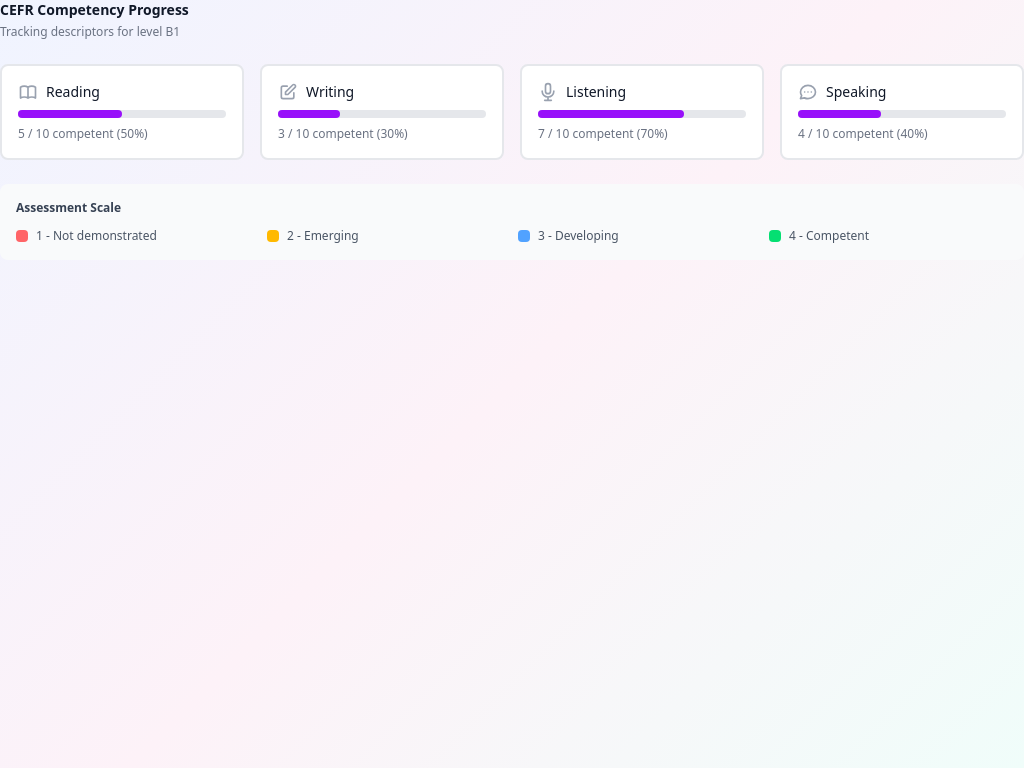
Scenario: CompetencyProgressTab › Skill Categories › toggles category selection on second click
Click the button "Reading 5 / 10 competent (50%)": coordinates (122, 112) [0,64,244,160]
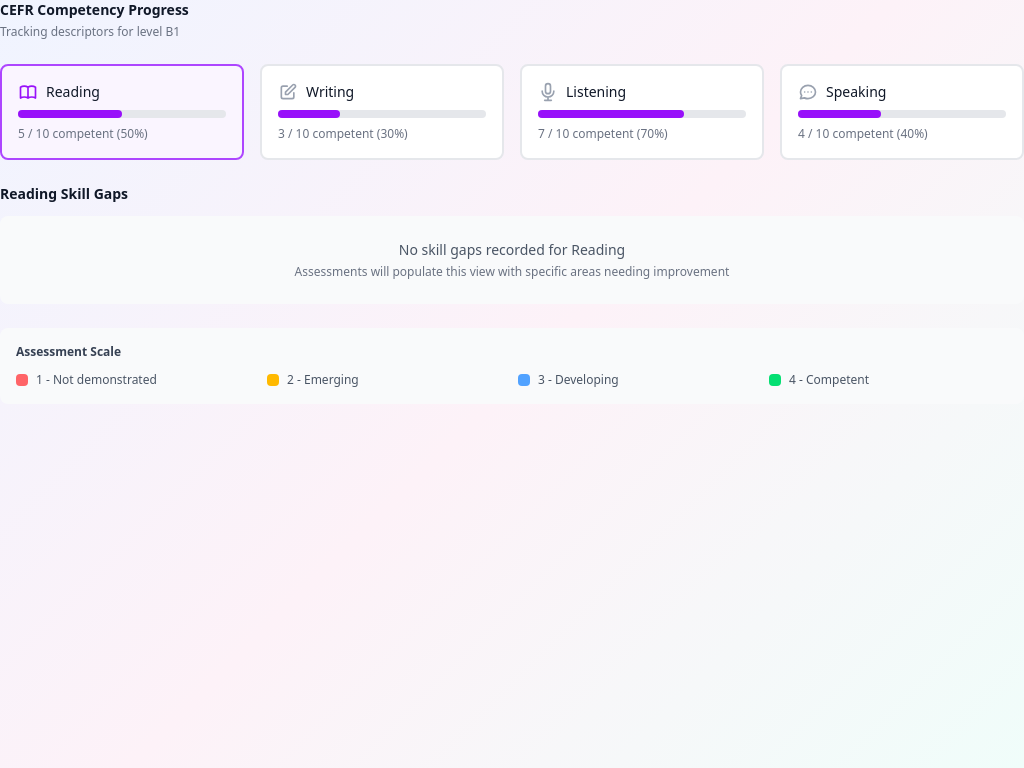
Expected: the heading "Reading Skill Gaps" is shown, [0,184,128,203]
Click the button "Reading 5 / 10 competent (50%)": coordinates (122, 112) [0,64,244,160]
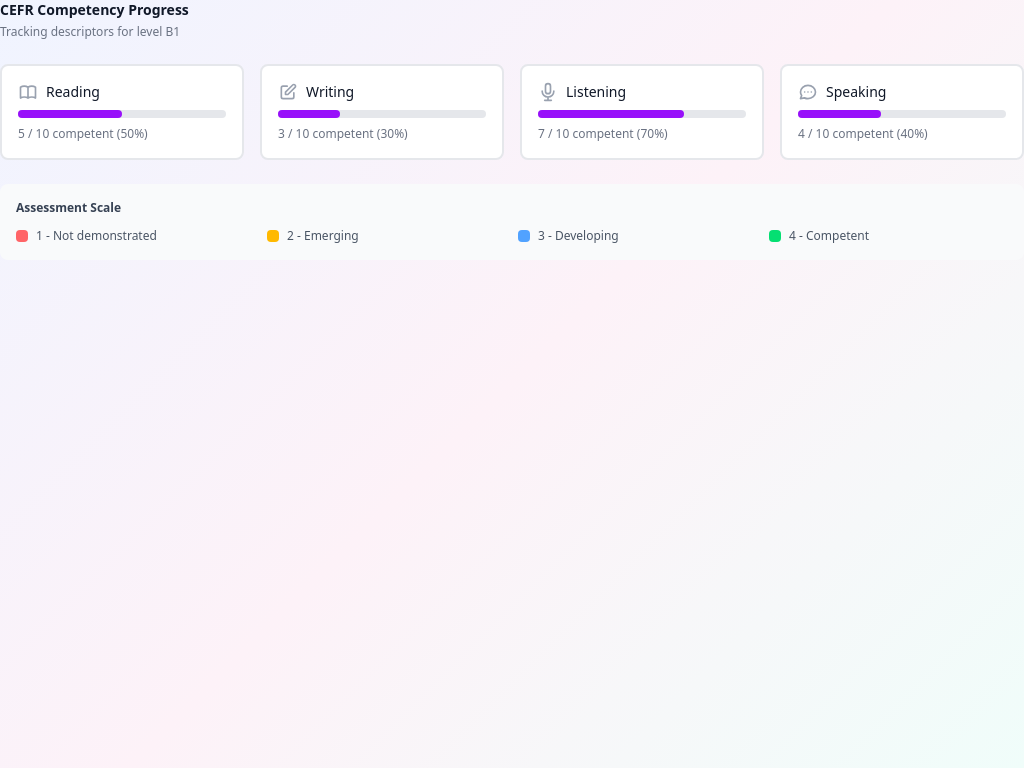
Expected: the heading "Reading Skill Gaps" is gone
